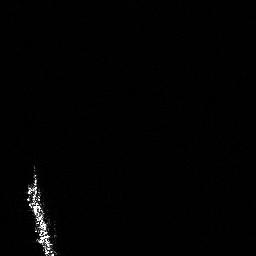ship: (22, 162, 62, 256)
